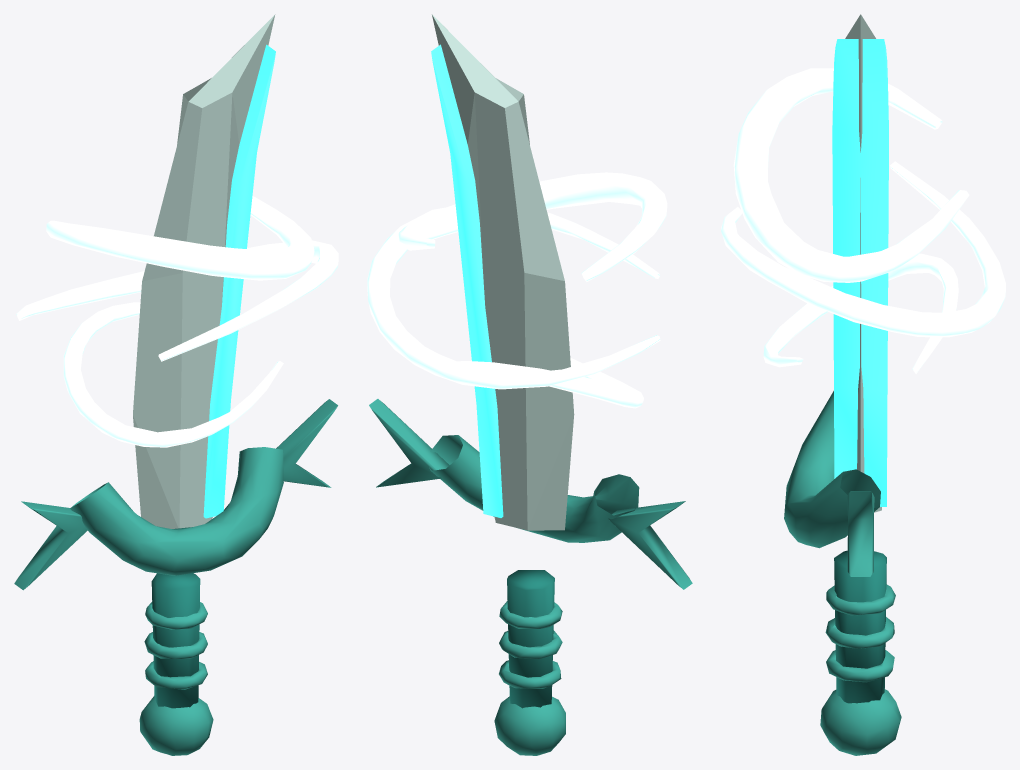
The model's file is weapon-g5.glb.
The picture shows the model from 3 angles, left to right: view 1: azimuth 30°, elevation 25°; view 2: azimuth 150°, elevation 25°; view 3: azimuth 270°, elevation 25°; orthographic projection. The views are drawn at different scales.
Visible parts, largest first — view 1: blade; view 2: blade; view 3: blade.
Part boxes in pixels (x1=…): blade: x1=14, y1=14, x2=338, y2=755; blade: x1=367, y1=14, x2=692, y2=755; blade: x1=721, y1=14, x2=1005, y2=755.
Size of the model in its own units: 0.9492 by 2.05 by 0.6707.
